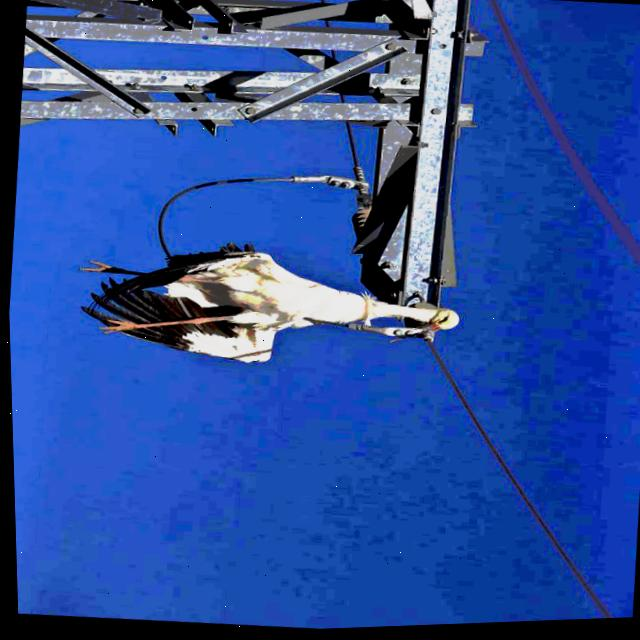obstruction: (77, 244, 455, 365)
poles: (20, 0, 465, 257)
wires: (446, 379, 611, 623), (507, 37, 640, 277), (153, 173, 365, 246)
